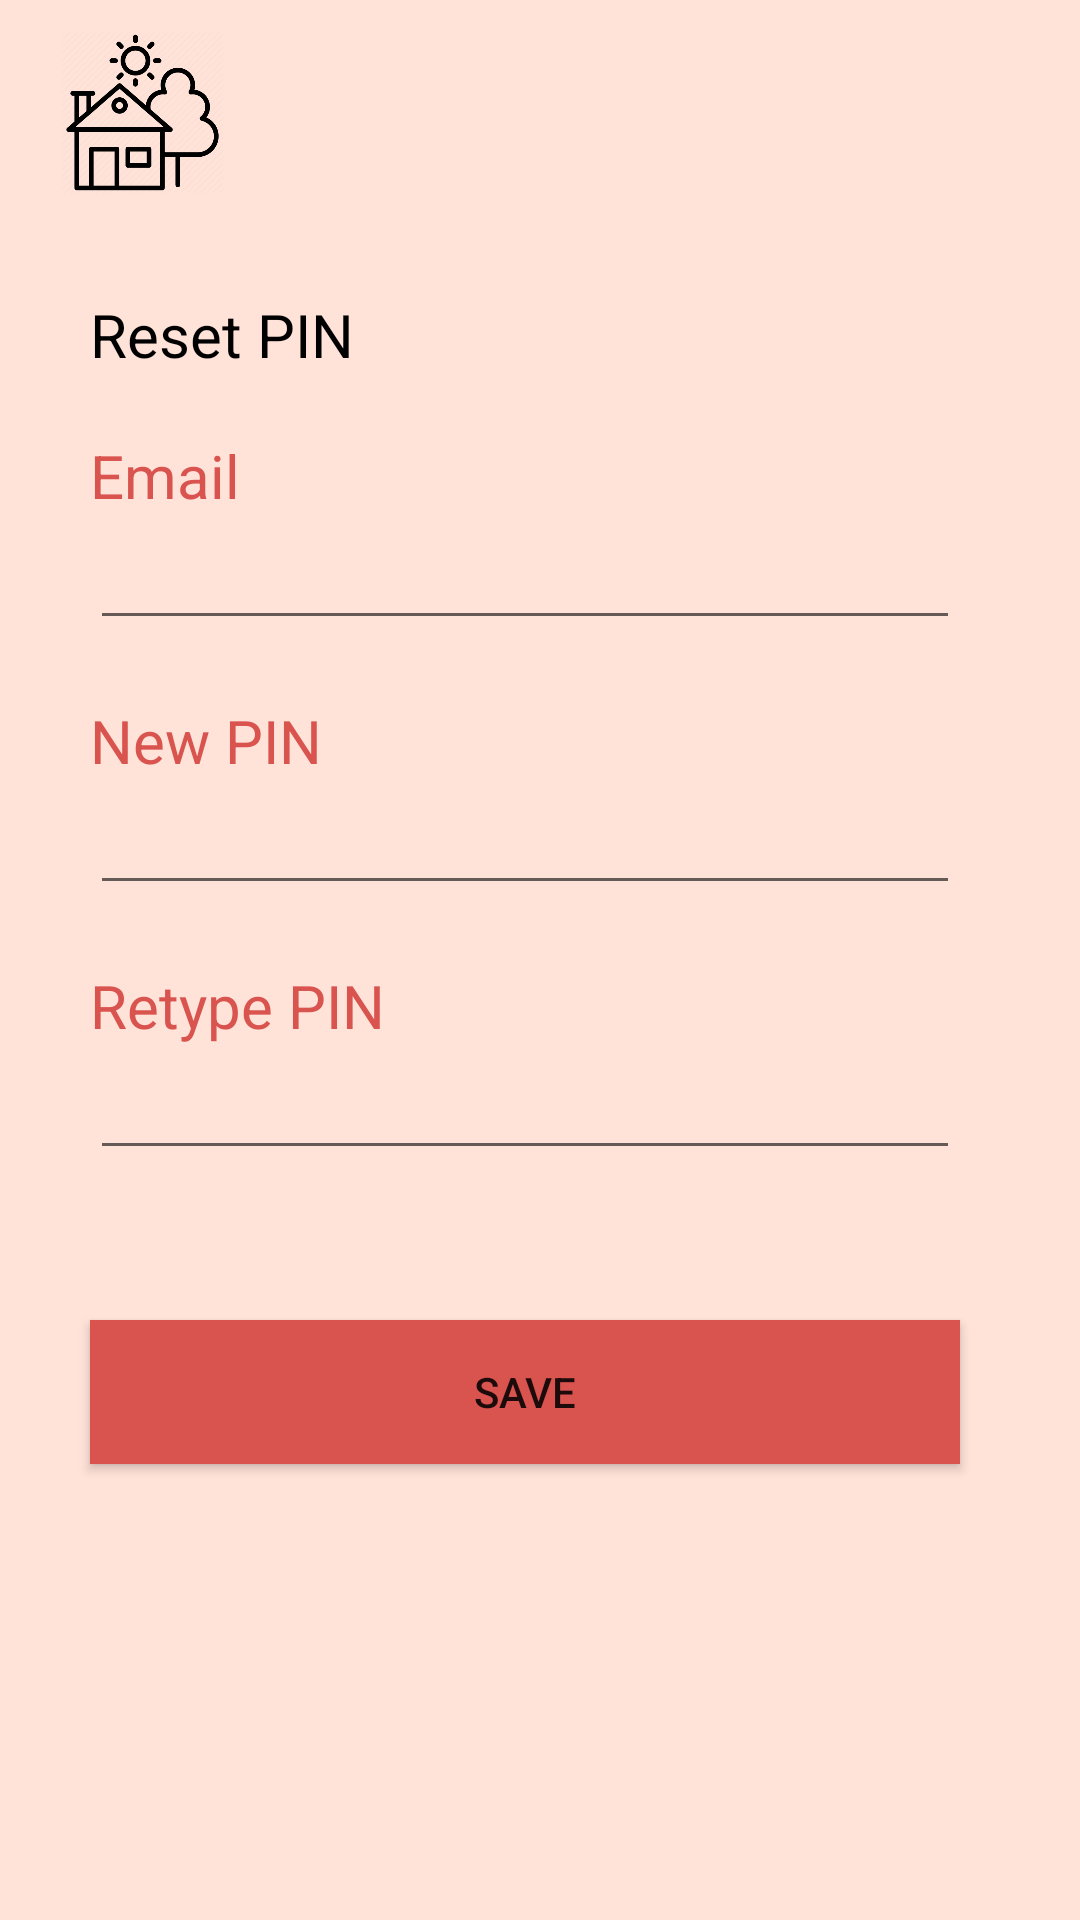

Screen size 1080px×1920px. Icon name, then its box in pixels as (x1, y1, x2, y2):
house: (66, 34, 219, 191)
